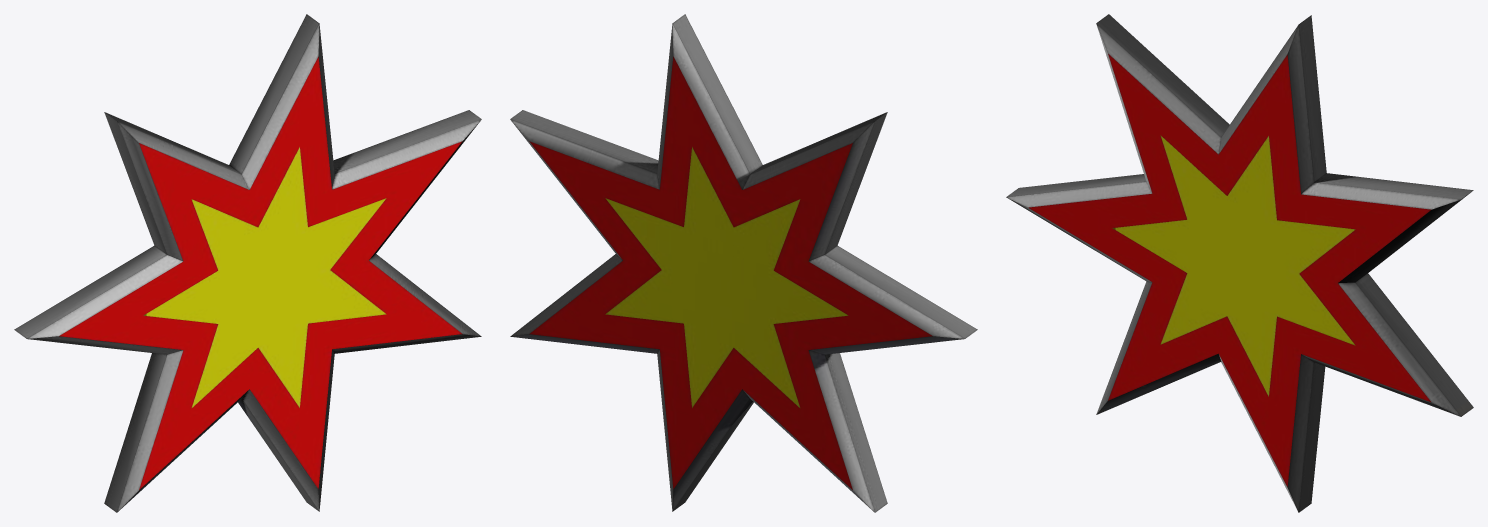
The model's file is fuseOn.obj.
3 views of the same model, side by side, from view 1: azimuth 30°, elevation 25°; view 2: azimuth 150°, elevation 25°; view 3: azimuth 330°, elevation 25° (orthographic).
Parts seen in each view (by area): view 1: Object001; view 2: Object001; view 3: Object001.
Part boxes in pixels (x1,y1,x2,y2): Object001: (14, 14, 481, 512); Object001: (510, 14, 977, 512); Object001: (1006, 14, 1473, 512).
Size of the model in its own units: 92.61 by 94.99 by 8.1.
1 material, 1 textured.
